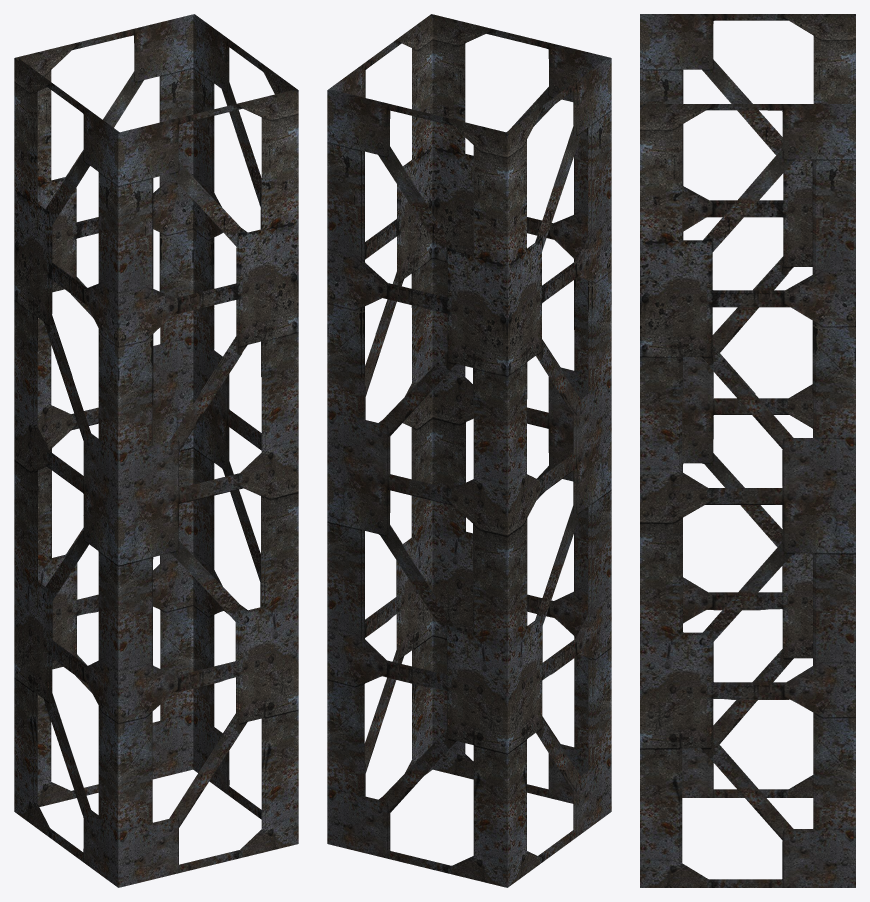
File: Scaffold_A_4.fbx
3 views of the same model, side by side, from view 1: azimuth 30°, elevation 25°; view 2: azimuth 150°, elevation 25°; view 3: azimuth 270°, elevation 25° (orthographic). The views are drawn at different scales.
Parts seen in each view (by area): view 1: polySurface1; view 2: polySurface1; view 3: polySurface1.
Part boxes in pixels (box(x1,y1,x2,y2)): polySurface1: box(14, 14, 298, 887); polySurface1: box(327, 14, 611, 887); polySurface1: box(640, 14, 855, 887).
Size of the model in its own units: 1 by 4 by 1.
